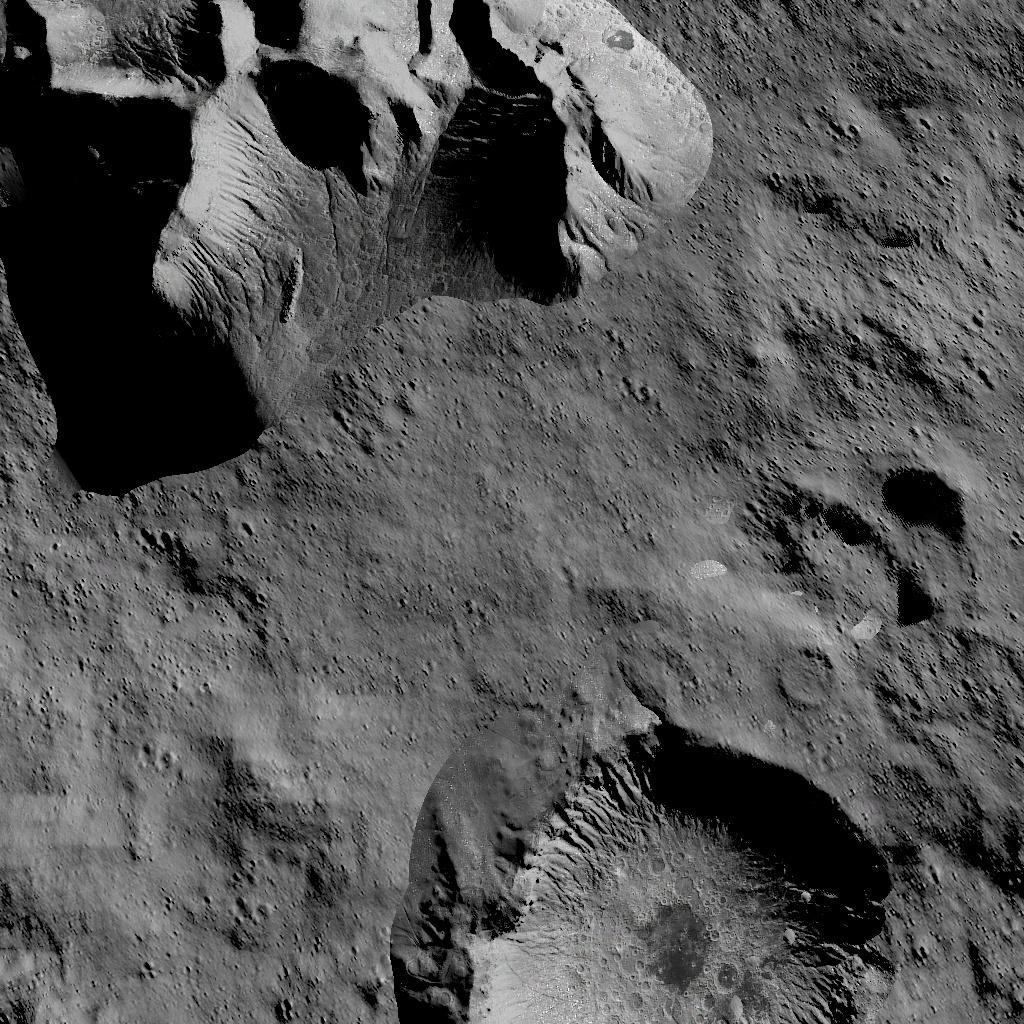Boulders: (0, 0, 708, 487)
Crater: (371, 716, 880, 1024), (760, 462, 972, 628), (764, 644, 846, 706), (965, 808, 1024, 892)
Plan surface: (5, 500, 357, 1024), (728, 4, 1024, 430), (369, 500, 732, 704)
